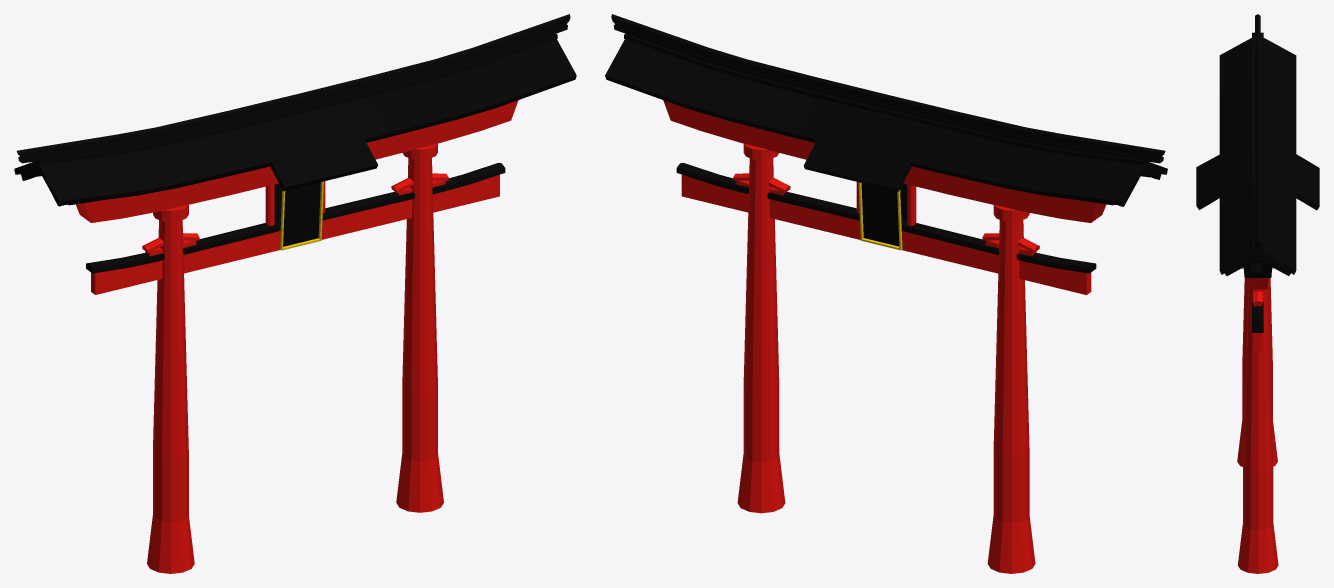
Rendered from Door_japanese.fbx.
The picture shows the model from 3 angles, left to right: view 1: azimuth 30°, elevation 25°; view 2: azimuth 150°, elevation 25°; view 3: azimuth 270°, elevation 25°; orthographic projection. The views are drawn at different scales.
Parts seen in each view (by area): view 1: Plane002; view 2: Plane002; view 3: Plane002.
Part boxes in pixels (box(x1,y1,x2,y2)): Plane002: box(14, 14, 576, 573); Plane002: box(605, 14, 1167, 573); Plane002: box(1196, 14, 1319, 573).
Bounding box in the file's own units: 206 × 161 × 46.77.
